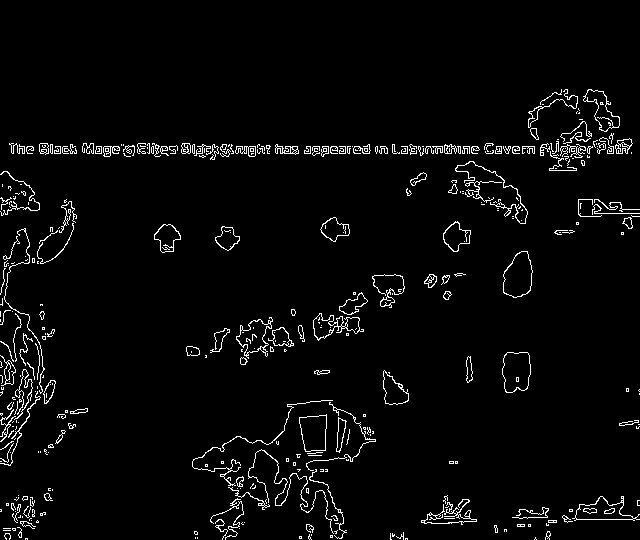down: (209, 219, 246, 258)
left: (307, 211, 357, 251), (429, 214, 477, 254)
up: (144, 217, 190, 261)
